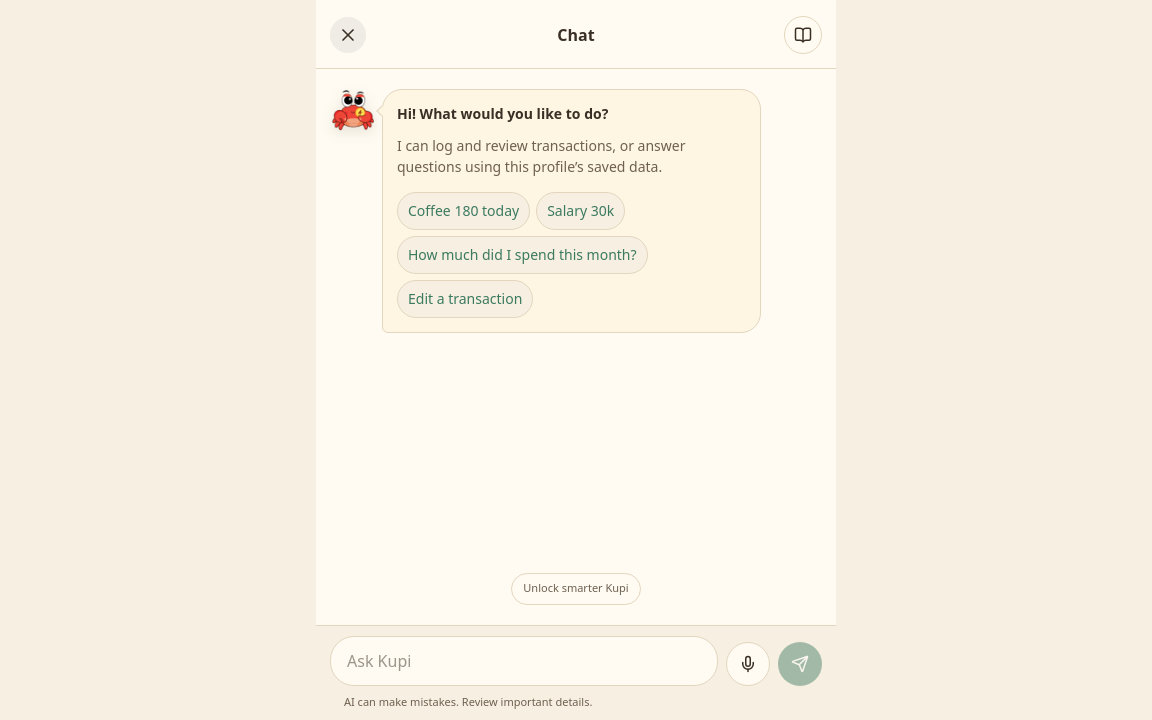
Test: Kupi chat action flow › answers account-management questions without confusing them as transactions
The image size is (1152, 720).
Later steps or results of the test are not shown.
Type "can you change accounts?" into the text box named "Message Kupi".
click(524, 660); type("can you change accounts?")  # box top-left (330, 636), bottom-right (718, 686)
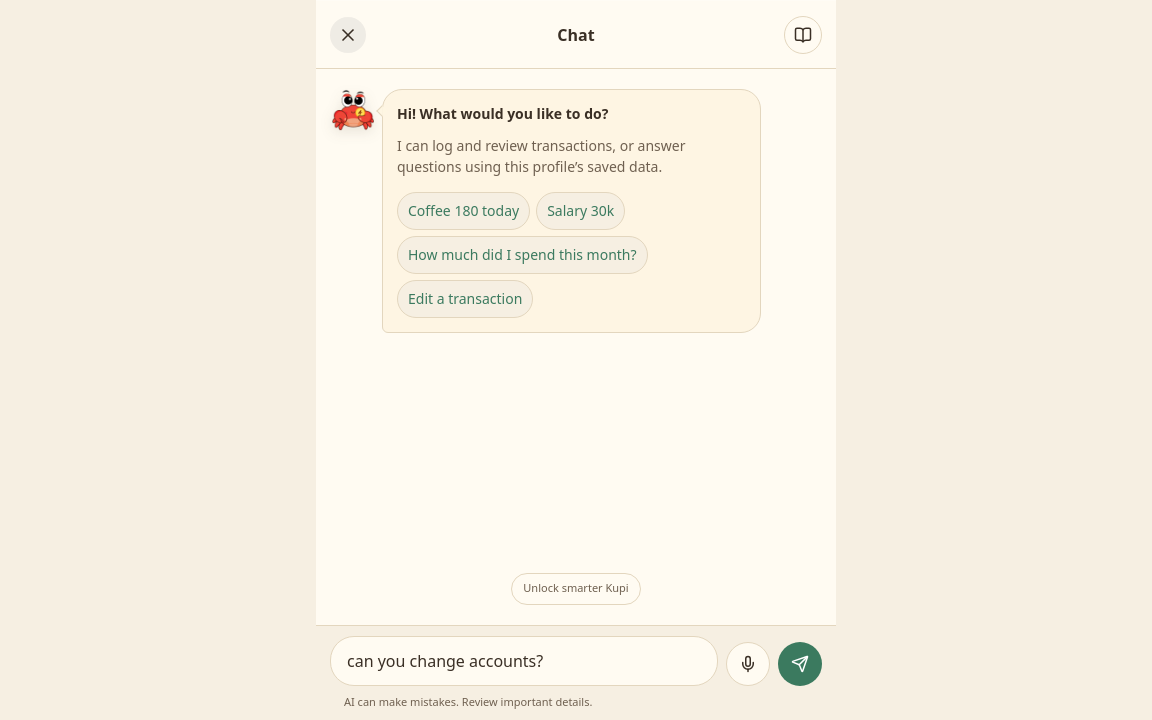
Expected: the button named "Send message" is enabled
Click the button named "Send message".
click(800, 664)  # box top-left (778, 642), bottom-right (822, 686)
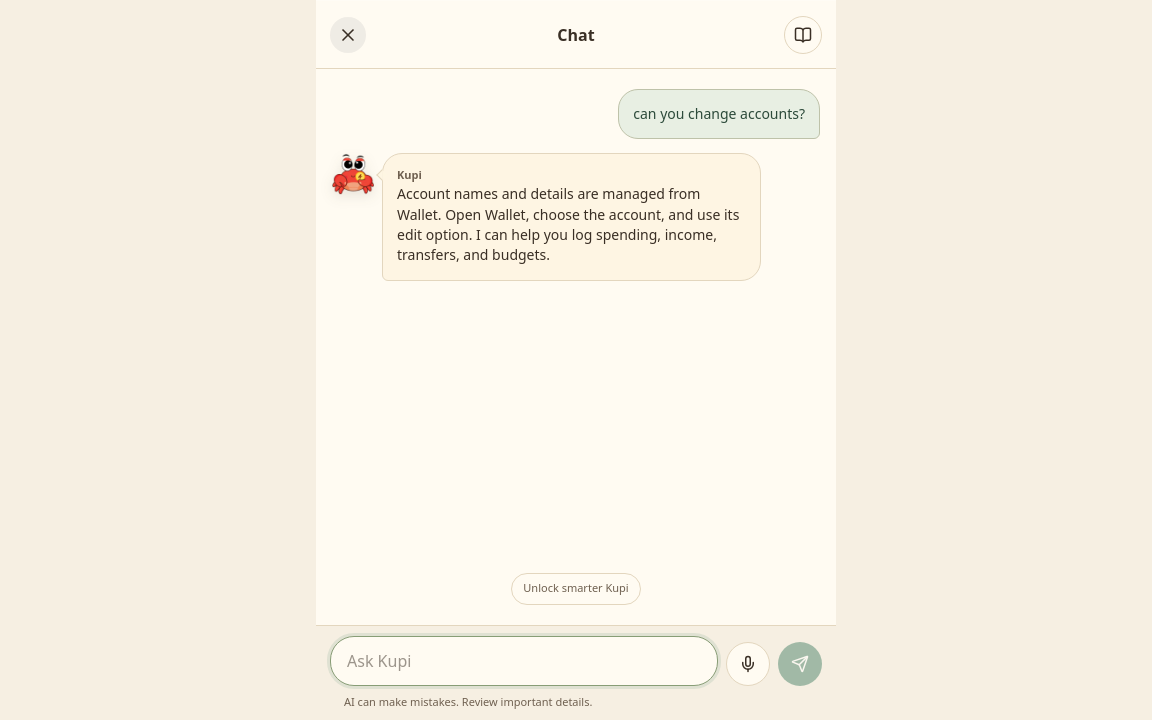
Expected: the text box named "Message Kupi" is enabled, top-left (330, 636), bottom-right (718, 686)
Expected: the text "Account names and details are managed from Wallet" is shown, top-left (397, 184), bottom-right (739, 264)
